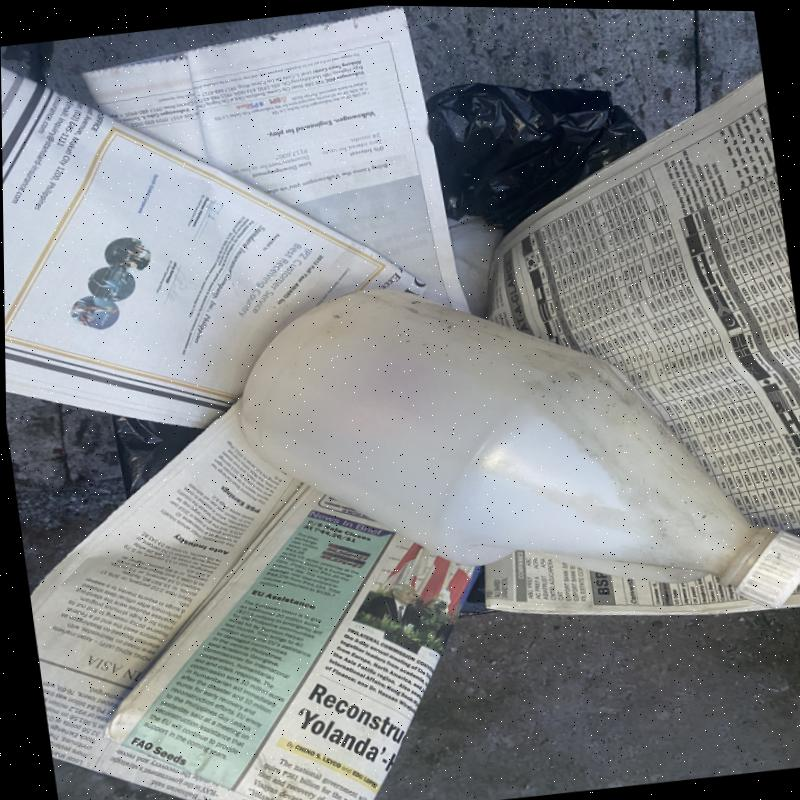paper: (30, 408, 479, 800), (1, 68, 432, 429), (489, 71, 800, 541), (81, 6, 475, 316), (483, 552, 772, 619)
plastic container: (238, 290, 800, 607)
